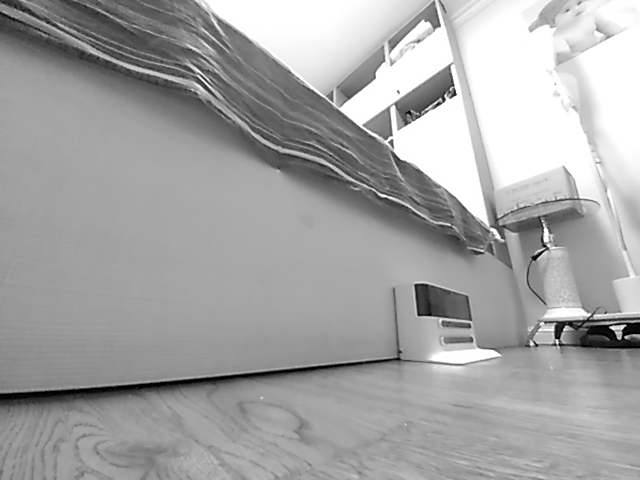Ruby: (392, 282, 502, 367)
